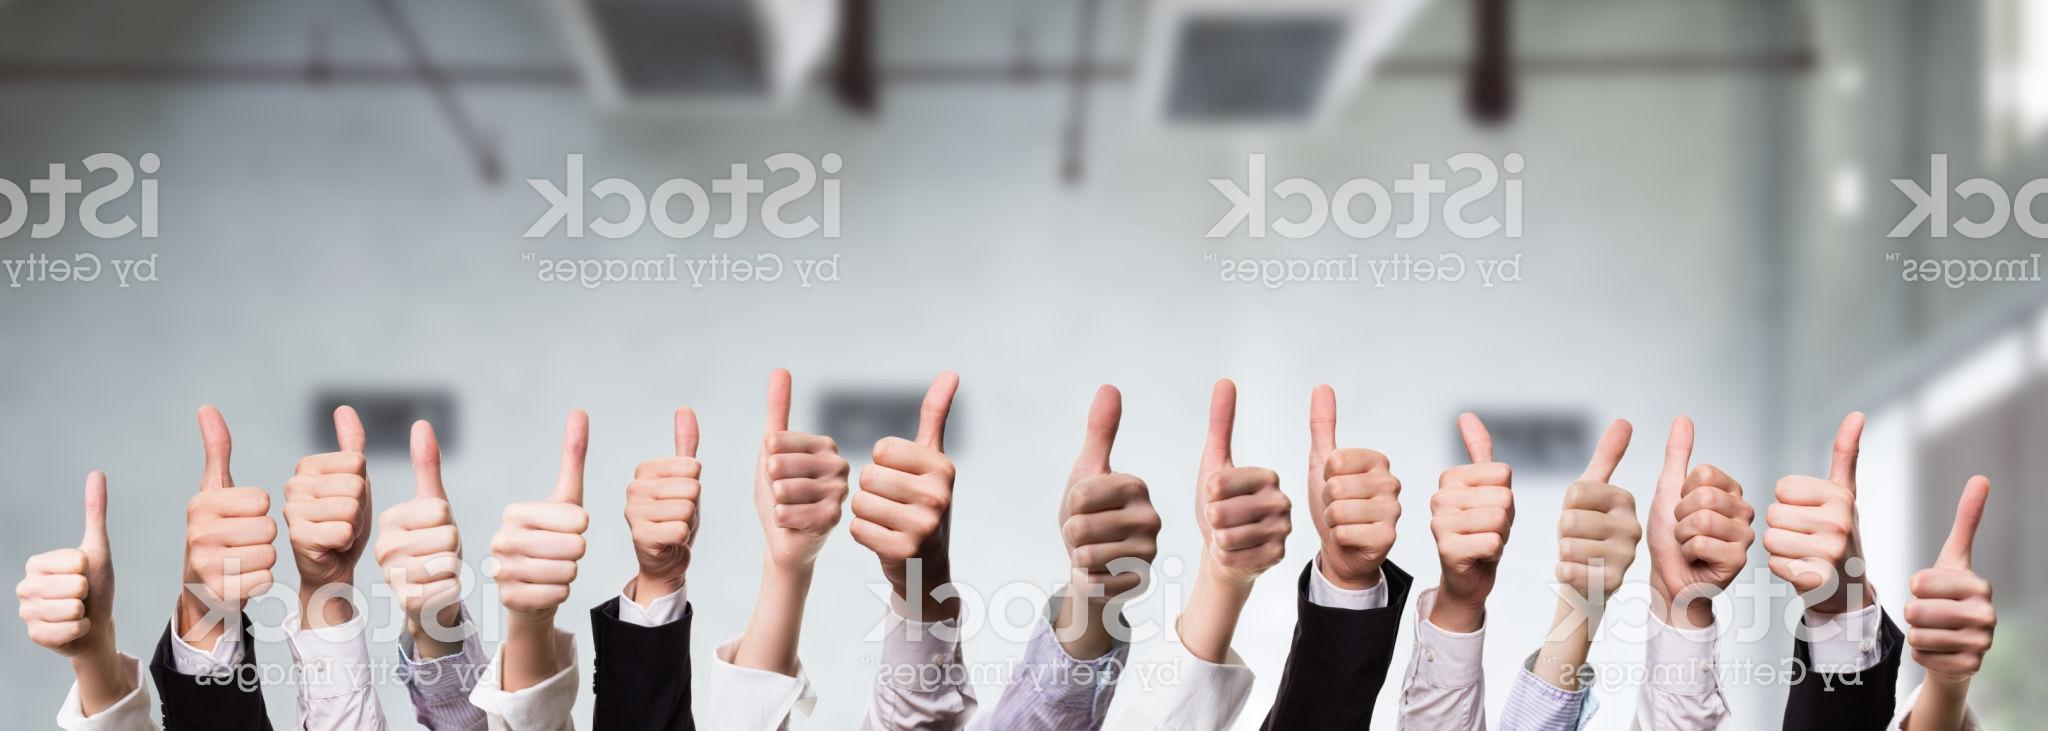thumbsup: (1055, 382, 1162, 603), (846, 369, 963, 570), (490, 406, 596, 614), (1192, 375, 1297, 580), (750, 365, 856, 565), (1646, 412, 1759, 594), (1902, 474, 2001, 679), (13, 469, 119, 657), (183, 402, 280, 606), (1761, 409, 1869, 583), (1305, 382, 1404, 569), (374, 416, 468, 612), (1552, 416, 1644, 595), (282, 403, 376, 580), (1428, 411, 1516, 595), (622, 403, 705, 563)
